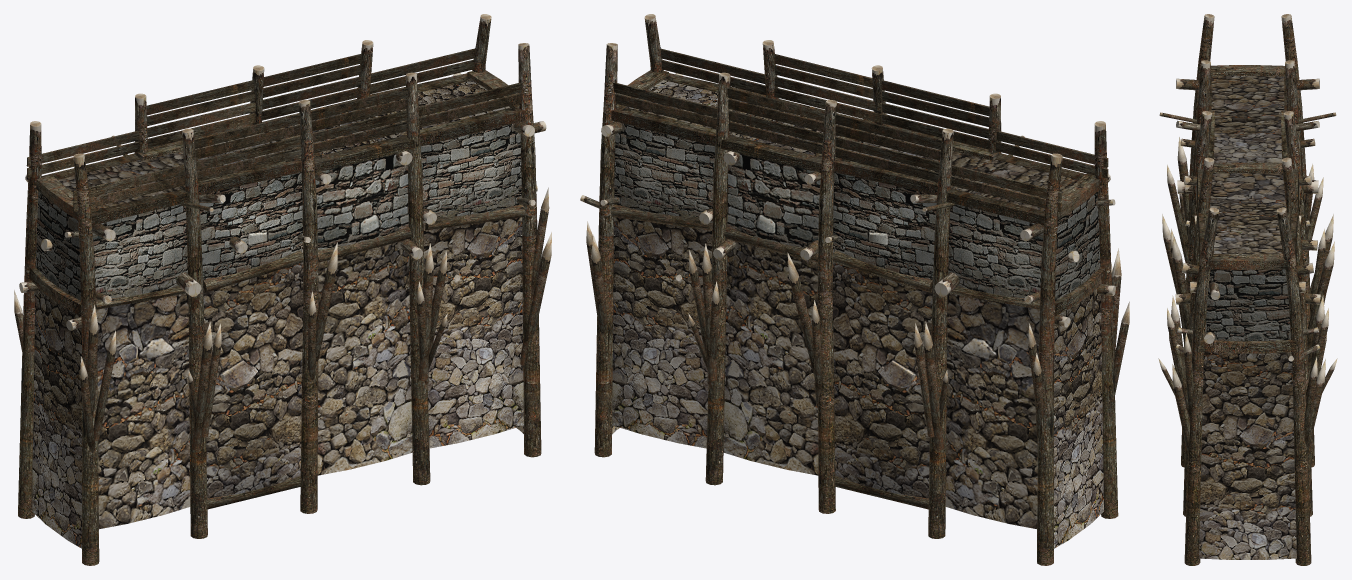
The model's file is s_gauls_wall_medium.glb.
3 views of the same model, side by side, from view 1: azimuth 30°, elevation 25°; view 2: azimuth 150°, elevation 25°; view 3: azimuth 270°, elevation 25° (orthographic). The views are drawn at different scales.
Visible parts, largest first — view 1: s_gauls_wall_medium_part0; view 2: s_gauls_wall_medium_part0; view 3: s_gauls_wall_medium_part0.
Part boxes in pixels (x1,y1,x2,y2): s_gauls_wall_medium_part0: [14, 14, 551, 565]; s_gauls_wall_medium_part0: [580, 14, 1129, 565]; s_gauls_wall_medium_part0: [1158, 14, 1337, 565].
Size of the model in its own units: 6.48 by 5.08 by 2.33.
1 material, 1 textured.
